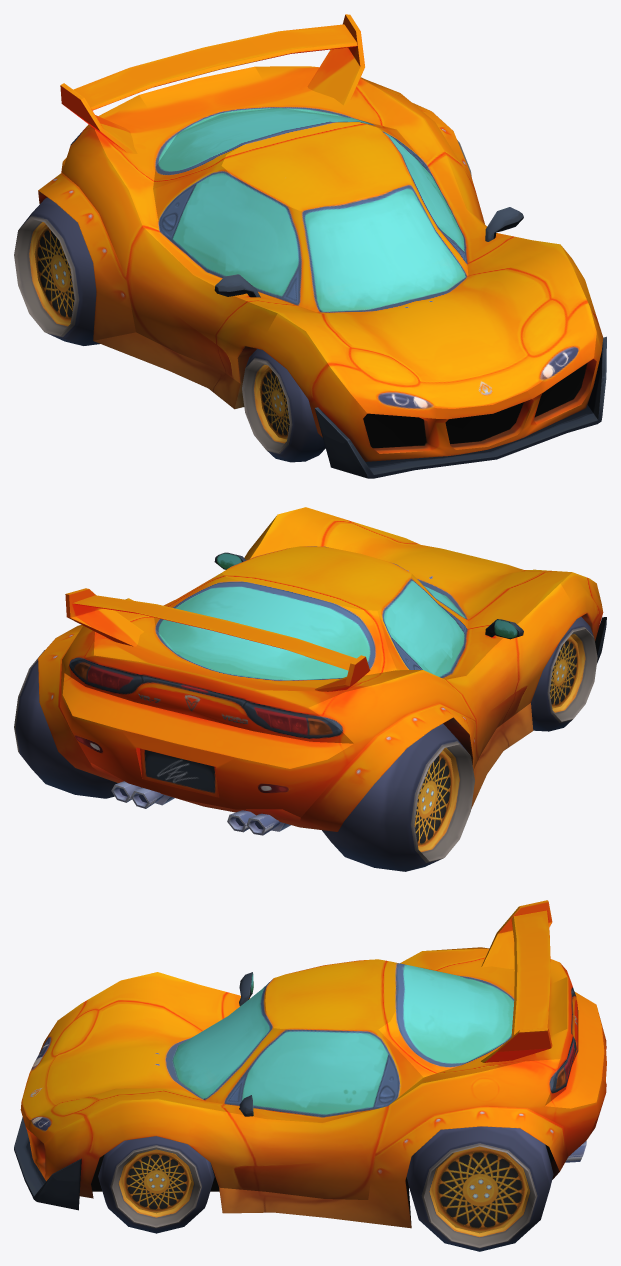
3 views of the same model, one above another, from view 1: azimuth 30°, elevation 25°; view 2: azimuth 150°, elevation 25°; view 3: azimuth 270°, elevation 25° (orthographic). The views are drawn at different scales.
Visible parts, largest first — view 1: rx7; view 2: rx7; view 3: rx7.
Boxes of the visible parts, bbox=[...] form: rx7: bbox=[14, 14, 606, 478]; rx7: bbox=[14, 507, 606, 871]; rx7: bbox=[14, 900, 606, 1251].
Size of the model in its own units: 8.31 by 4.48 by 11.55.
Materials: 3 (3 with a texture image).
